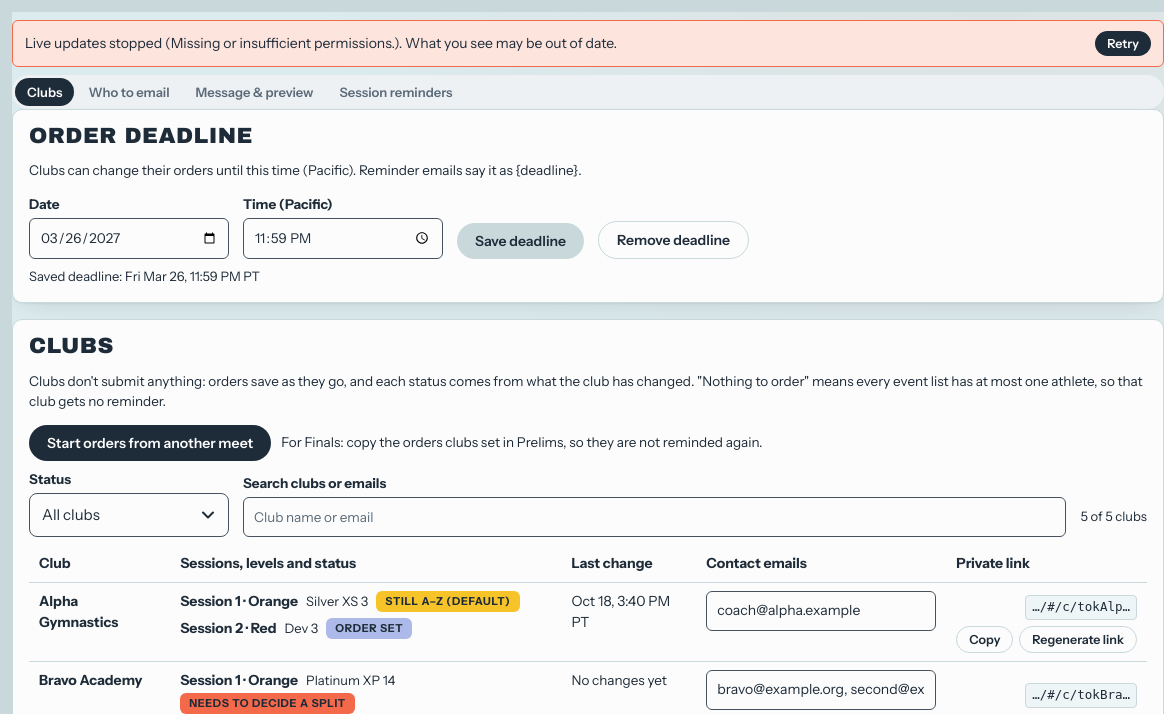
it: Live updates › shows an error banner when a listener fails, keeps the last data, and Retry listens again
Expected: the heading "Clubs" is shown, [29,334,114,358]
Expected: the message that starts with "Live updates stopped (" shows "Live updates stopped (Missing or insufficient permissions.)", [12,20,1163,67]
Click the button "Retry" at [1123, 44], box [1095,31,1151,56]
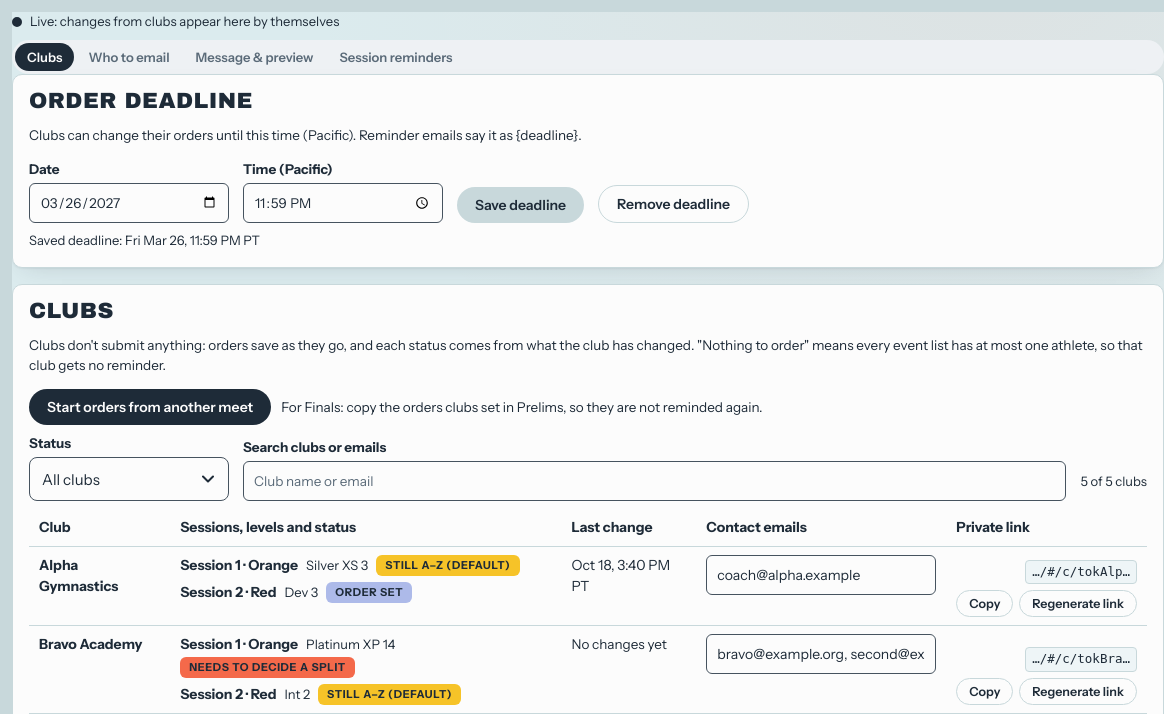
Now the text "Live updates stopped" is gone
Now the text "Live: changes from clubs appear here by themselves" is shown, box [12,12,339,32]
